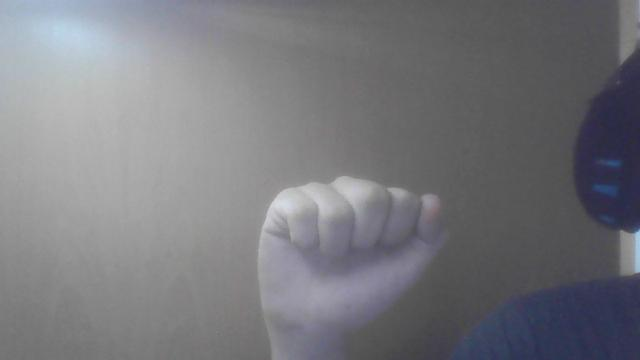forward: (257, 174, 449, 358)
